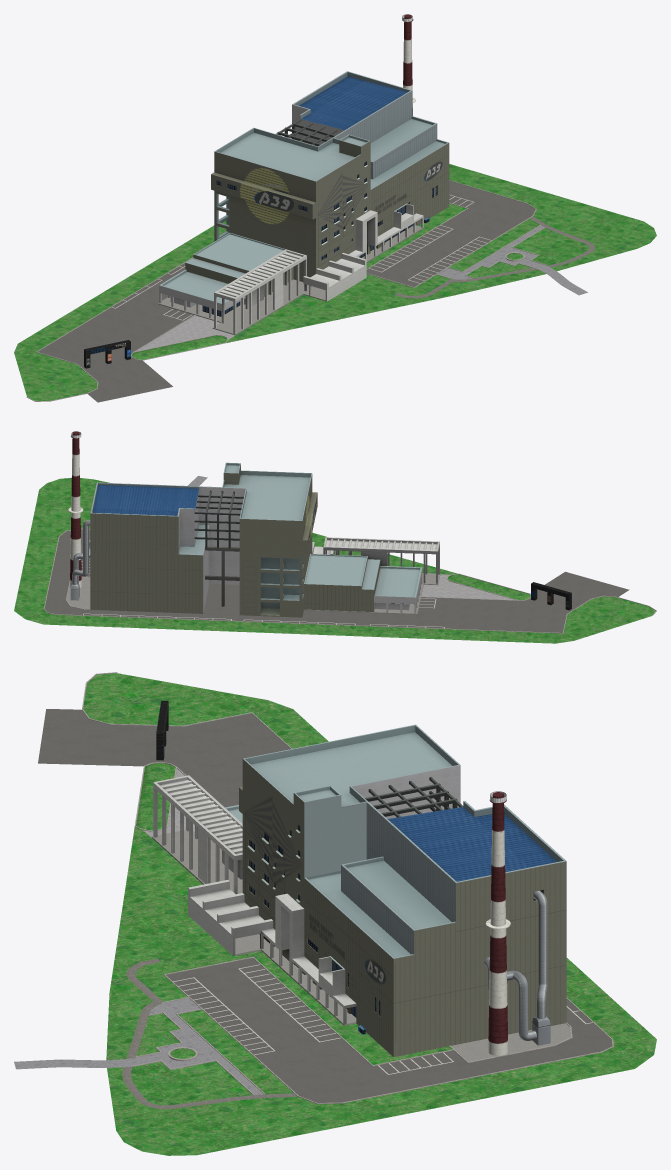
3 renders of one model, top to bottom at view 1: azimuth 30°, elevation 25°; view 2: azimuth 150°, elevation 25°; view 3: azimuth 270°, elevation 25°, orthographic. The views are drawn at different scales.
Parts seen in each view (by area): view 1: BK_grass01, BK_main01, BK_asphalt01, BK_main03, BK_ent01, BK_main02, BK_tile01, BK_tile04, BK_tile06, BK_kerbstone01, BK_grass03, BK_smallrolad (+3 smaller); view 2: BK_main03, BK_grass01, BK_main01, BK_asphalt01, BK_main02, BK_ent01, BK_back01, BK_cider03, BK_kerbstone01, BK_tile01, BK_tile06, BK_grass03 (+3 smaller); view 3: BK_grass01, BK_main03, BK_asphalt01, BK_main01, BK_ent01, BK_tile01, BK_cider03, BK_tile04, BK_pipe01, BK_kerbstone01, BK_smallrolad, BK_grass03 (+3 smaller).
Part boxes in pixels (left/top/right/bottom): BK_grass01: left=14, top=164, right=656, bottom=401; BK_main01: left=211, top=127, right=370, bottom=281; BK_asphalt01: left=38, top=181, right=535, bottom=402; BK_main03: left=292, top=71, right=449, bottom=236; BK_ent01: left=214, top=203, right=423, bottom=333; BK_main02: left=159, top=232, right=293, bottom=321; BK_tile01: left=158, top=225, right=423, bottom=335; BK_tile04: left=437, top=225, right=587, bottom=295; BK_tile06: left=136, top=315, right=235, bottom=351; BK_kerbstone01: left=26, top=180, right=536, bottom=401; BK_grass03: left=131, top=334, right=228, bottom=360; BK_smallrolad: left=395, top=216, right=595, bottom=298; BK_main03: left=90, top=482, right=221, bottom=613; BK_grass01: left=14, top=478, right=655, bottom=643; BK_main01: left=222, top=462, right=317, bottom=617; BK_asphalt01: left=44, top=529, right=629, bottom=632; BK_main02: left=304, top=554, right=422, bottom=613; BK_ent01: left=312, top=537, right=439, bottom=583; BK_back01: left=194, top=490, right=243, bottom=606; BK_cider03: left=68, top=431, right=83, bottom=587; BK_kerbstone01: left=44, top=528, right=656, bottom=633; BK_tile01: left=66, top=573, right=440, bottom=614; BK_tile06: left=421, top=574, right=514, bottom=599; BK_grass03: left=447, top=573, right=530, bottom=600; BK_grass01: left=83, top=673, right=656, bottom=1155; BK_main03: left=304, top=801, right=566, bottom=1056; BK_asphalt01: left=38, top=709, right=612, bottom=1102; BK_main01: left=239, top=724, right=460, bottom=929; BK_ent01: left=153, top=775, right=356, bottom=1024; BK_tile01: left=151, top=830, right=571, bottom=1061; BK_cider03: left=485, top=792, right=510, bottom=1055; BK_tile04: left=14, top=998, right=263, bottom=1094; BK_pipe01: left=484, top=890, right=550, bottom=1045; BK_kerbstone01: left=82, top=672, right=613, bottom=1103; BK_smallrolad: left=122, top=958, right=297, bottom=1109; BK_grass03: left=134, top=762, right=176, bottom=831.
Bounding box in the file's own units: 15379 × 3818 × 8650.
